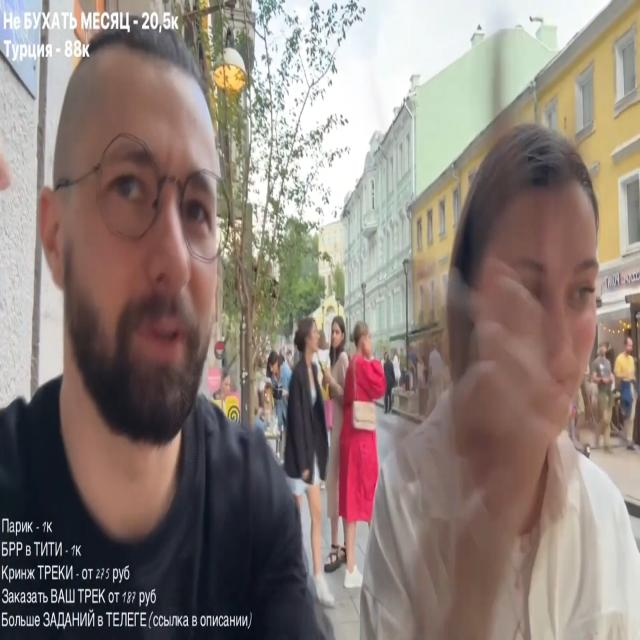Person: (0, 26, 352, 636), (356, 108, 640, 639), (279, 319, 341, 584), (335, 317, 393, 590), (586, 346, 618, 444), (614, 340, 640, 450), (265, 351, 291, 450), (325, 320, 348, 395)
